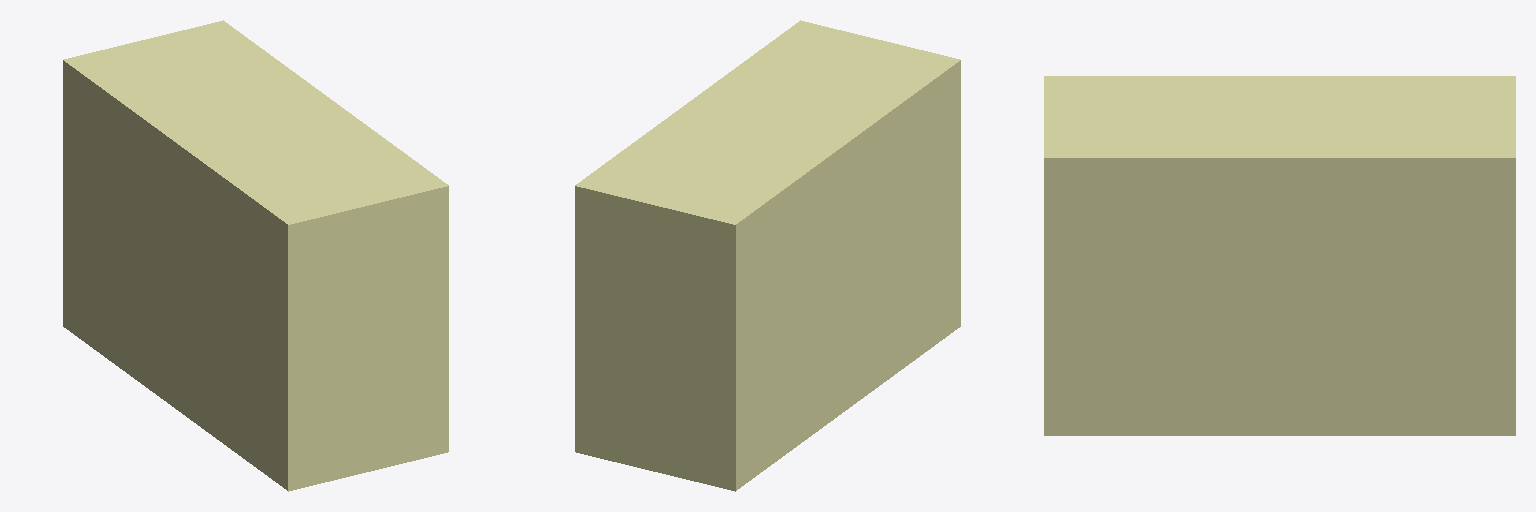
The robot description file, URDF, robot "box.urdf":
<?xml version="1.0" ?>
<robot name="box.urdf">
  <link name="baseLink">
    <contact>
      <lateral_friction value="1.0"/>
      <rolling_friction value="0.0001"/>
      <inertia_scaling value="3.0"/>
    </contact>
    <inertial>
      <origin rpy="0 0 0" xyz="0 0 0"/>
       <mass value="0.1"/>
       <inertia ixx="1" ixy="0" ixz="0" iyy="1" iyz="0" izz="1"/>
    </inertial>
    <visual>
      <origin rpy="0 0 0" xyz="0 0 0"/>
      <geometry>
        <!-- <box size="0.146 0.355 0.231"/> -->
        <mesh filename="box/box.obj" scale="0.146 0.355 0.231"/>
      </geometry>
      <material name="white">
        <color rgba="0.9 0.9 0.7 1"/>
      </material>
    </visual>
    <collision>
      <origin rpy="0 0 0" xyz="0 0 0"/>
      <geometry>
        <mesh filename="box/box.obj" scale="0.146 0.355 0.231"/>
	 	    <!-- <box size="0.146 0.355 0.231"/> -->
      </geometry>
    </collision>
  </link>
</robot>

--- Render facts (derived) ---
3 views of the same robot in one strip: view 1: azimuth 30°, elevation 25°; view 2: azimuth 150°, elevation 25°; view 3: azimuth 270°, elevation 25° (orthographic).
Model box.urdf with 1 links and 0 joints (none), rooted at baseLink, posed every joint at zero.
Visible links, largest first — view 1: baseLink; view 2: baseLink; view 3: baseLink.
Link boxes in pixels (x1=…): baseLink: x1=63, y1=20, x2=448, y2=491; baseLink: x1=575, y1=20, x2=960, y2=491; baseLink: x1=1044, y1=76, x2=1515, y2=435.
Bounding box of the posed robot: 0.146 × 0.355 × 0.231 m (x, y, z).
1 mesh visuals loaded from 1 distinct referenced files (1 OBJ).
